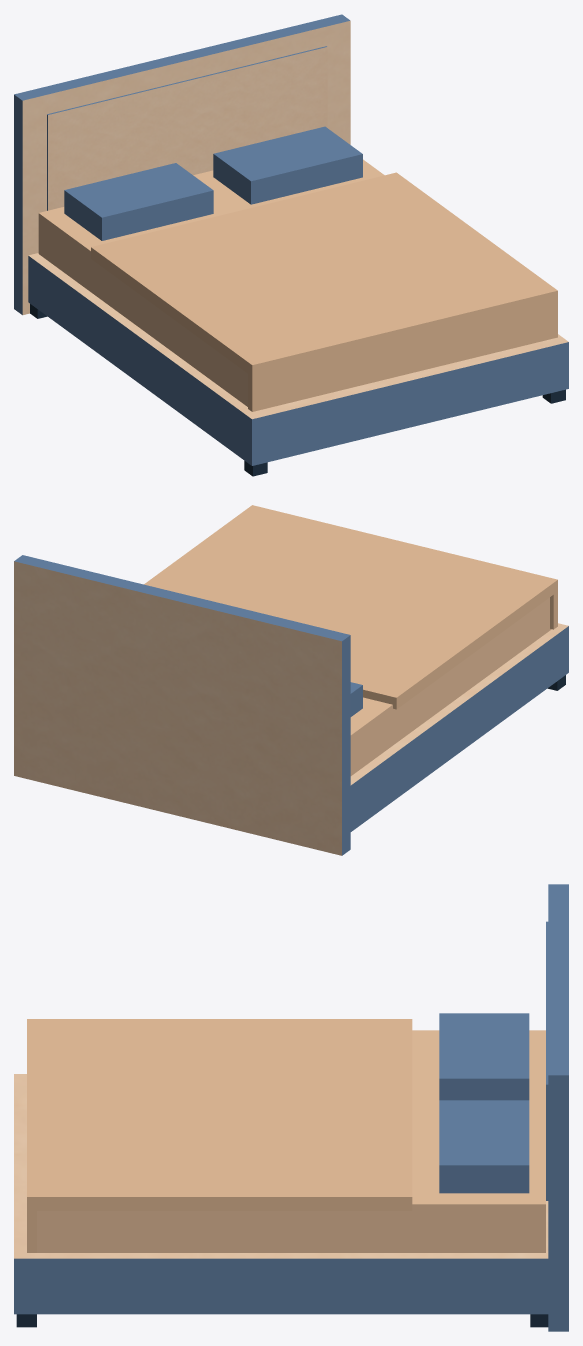
File: Bed.fbx
3 renders of one model, top to bottom at view 1: azimuth 30°, elevation 25°; view 2: azimuth 150°, elevation 25°; view 3: azimuth 270°, elevation 25°, orthographic. The views are drawn at different scales.
Parts seen in each view (by area): view 1: Bed; view 2: Bed; view 3: Bed.
Part boxes in pixels (left/top/right/bottom): Bed: left=14, top=14, right=568, bottom=476; Bed: left=14, top=505, right=568, bottom=855; Bed: left=14, top=884, right=568, bottom=1331.
Bounding box in the file's own units: 1.76 × 1.1 × 2.16.
Materials: 1 (1 with a texture image).
